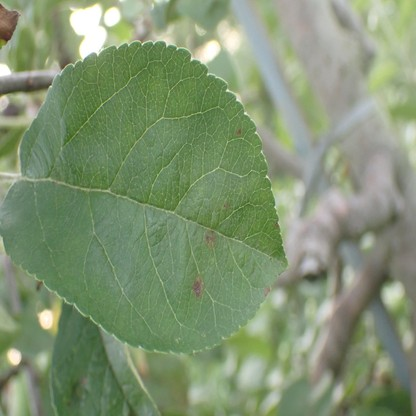scab: (67, 374, 89, 407), (191, 275, 205, 300), (205, 228, 218, 250), (236, 127, 242, 136), (223, 202, 228, 210)
